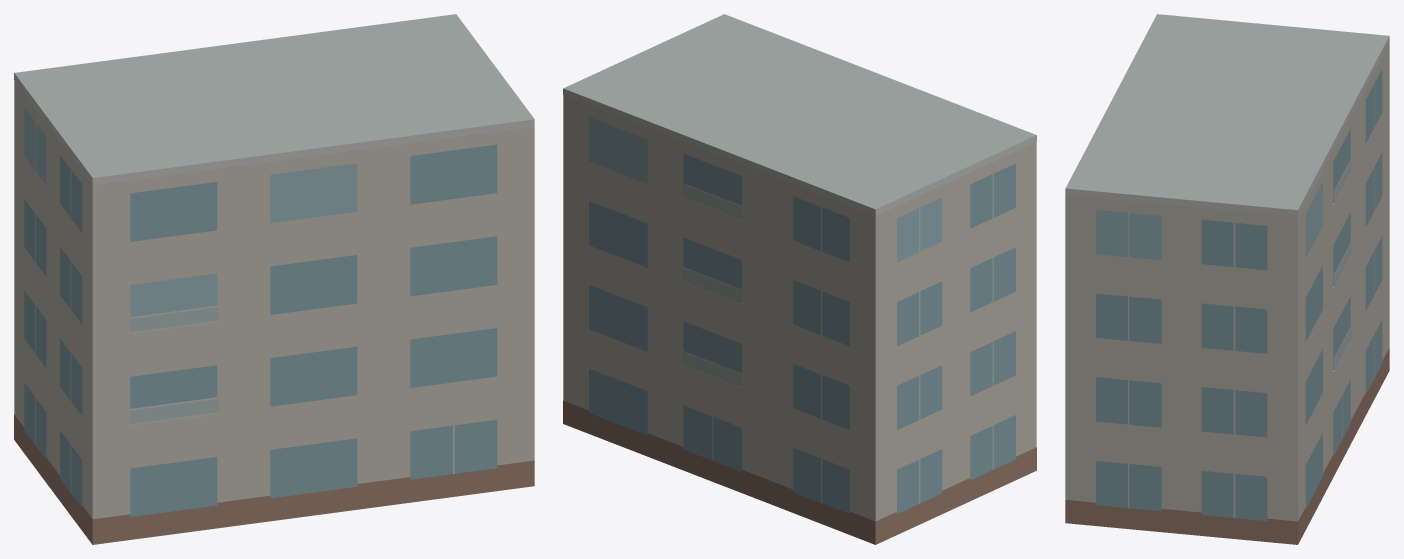
File: residential-b32a4c02-60ee-45c6-88de-dfad07e86400.glb
3 renders of one model, left to right at view 1: azimuth 30°, elevation 25°; view 2: azimuth 150°, elevation 25°; view 3: azimuth 270°, elevation 25°, orthographic. The views are drawn at different scales.
Parts seen in each view (by area): view 1: residential-b32a4c02-60ee-45c6-88de-dfad07e86400.tmp; view 2: residential-b32a4c02-60ee-45c6-88de-dfad07e86400.tmp; view 3: residential-b32a4c02-60ee-45c6-88de-dfad07e86400.tmp.
Part boxes in pixels (x1=…): residential-b32a4c02-60ee-45c6-88de-dfad07e86400.tmp: x1=14, y1=14, x2=534, y2=544; residential-b32a4c02-60ee-45c6-88de-dfad07e86400.tmp: x1=563, y1=14, x2=1036, y2=544; residential-b32a4c02-60ee-45c6-88de-dfad07e86400.tmp: x1=1065, y1=14, x2=1389, y2=544.
Bounding box in the file's own units: 15.35 × 12.2 × 10.72.
